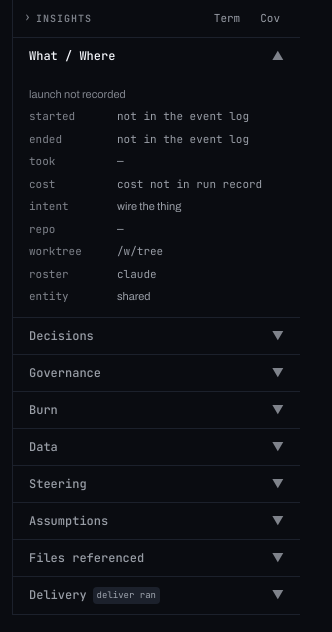
Scenario: opening Delivery for a run that DID open a PR (EC55, EC59) › EC59: `outputUnavailable` renders the DAEMON's words, never an indefinite Loading…
The image size is (332, 632).
Click the button "Delivery deliver ran ▼": click(156, 595) [13,576,300,614]
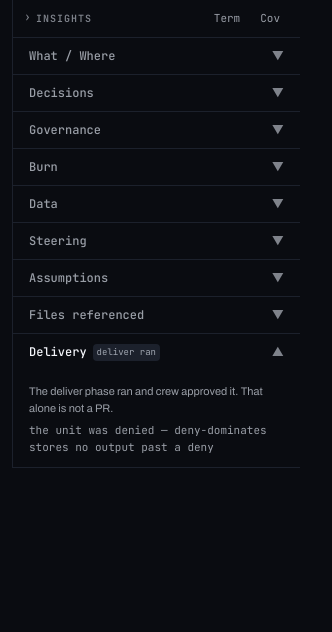
Expected: the text with test id "run-delivery-nolink" reads "the unit was denied — deny-dominates stores no output past a deny", [29,423,267,454]
